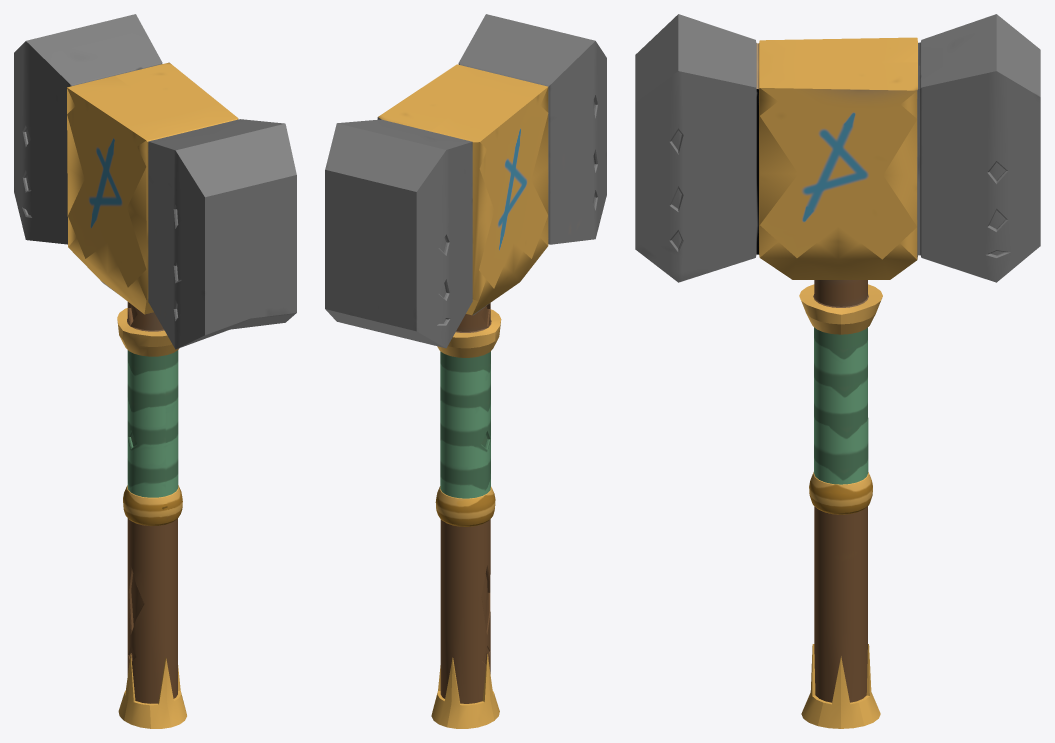
File: hammer.fbx
3 views of the same model, side by side, from view 1: azimuth 30°, elevation 25°; view 2: azimuth 150°, elevation 25°; view 3: azimuth 270°, elevation 25° (orthographic). The views are drawn at different scales.
Parts seen in each view (by area): view 1: sopra13; view 2: sopra13; view 3: sopra13.
Boxes of the visible parts, box(x1,y1,x2,y2) form: sopra13: box(14, 14, 296, 728); sopra13: box(325, 14, 606, 728); sopra13: box(635, 14, 1040, 728).
Size of the model in its own units: 2.66 by 14.61 by 7.99.
3 materials, 2 textured.
